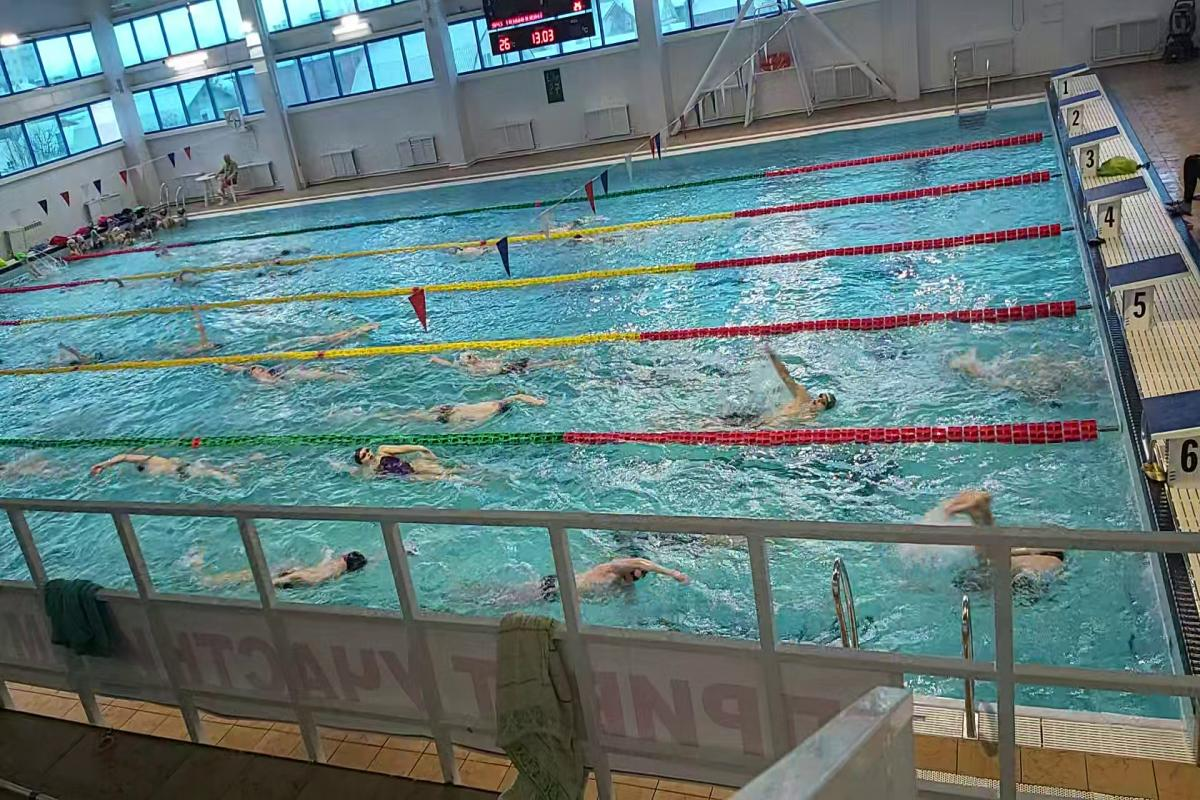swimmer: (937, 494, 1073, 615), (471, 543, 693, 614), (207, 538, 393, 593), (736, 346, 850, 427), (78, 448, 256, 491), (952, 336, 1055, 410), (347, 439, 476, 488), (422, 344, 600, 379), (219, 349, 359, 390), (418, 394, 558, 425), (164, 303, 226, 351), (51, 337, 118, 363), (171, 267, 210, 289)
